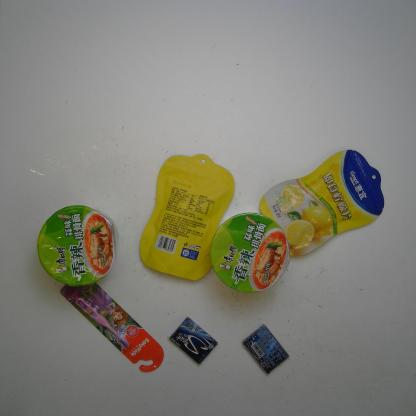Dried Fruit: (256, 148, 388, 260), (138, 151, 237, 283)
Gum: (240, 322, 291, 376), (168, 315, 219, 367)
Instant Noodles: (35, 202, 119, 288), (208, 210, 293, 294)
Personal Hygiene: (58, 277, 165, 374)
